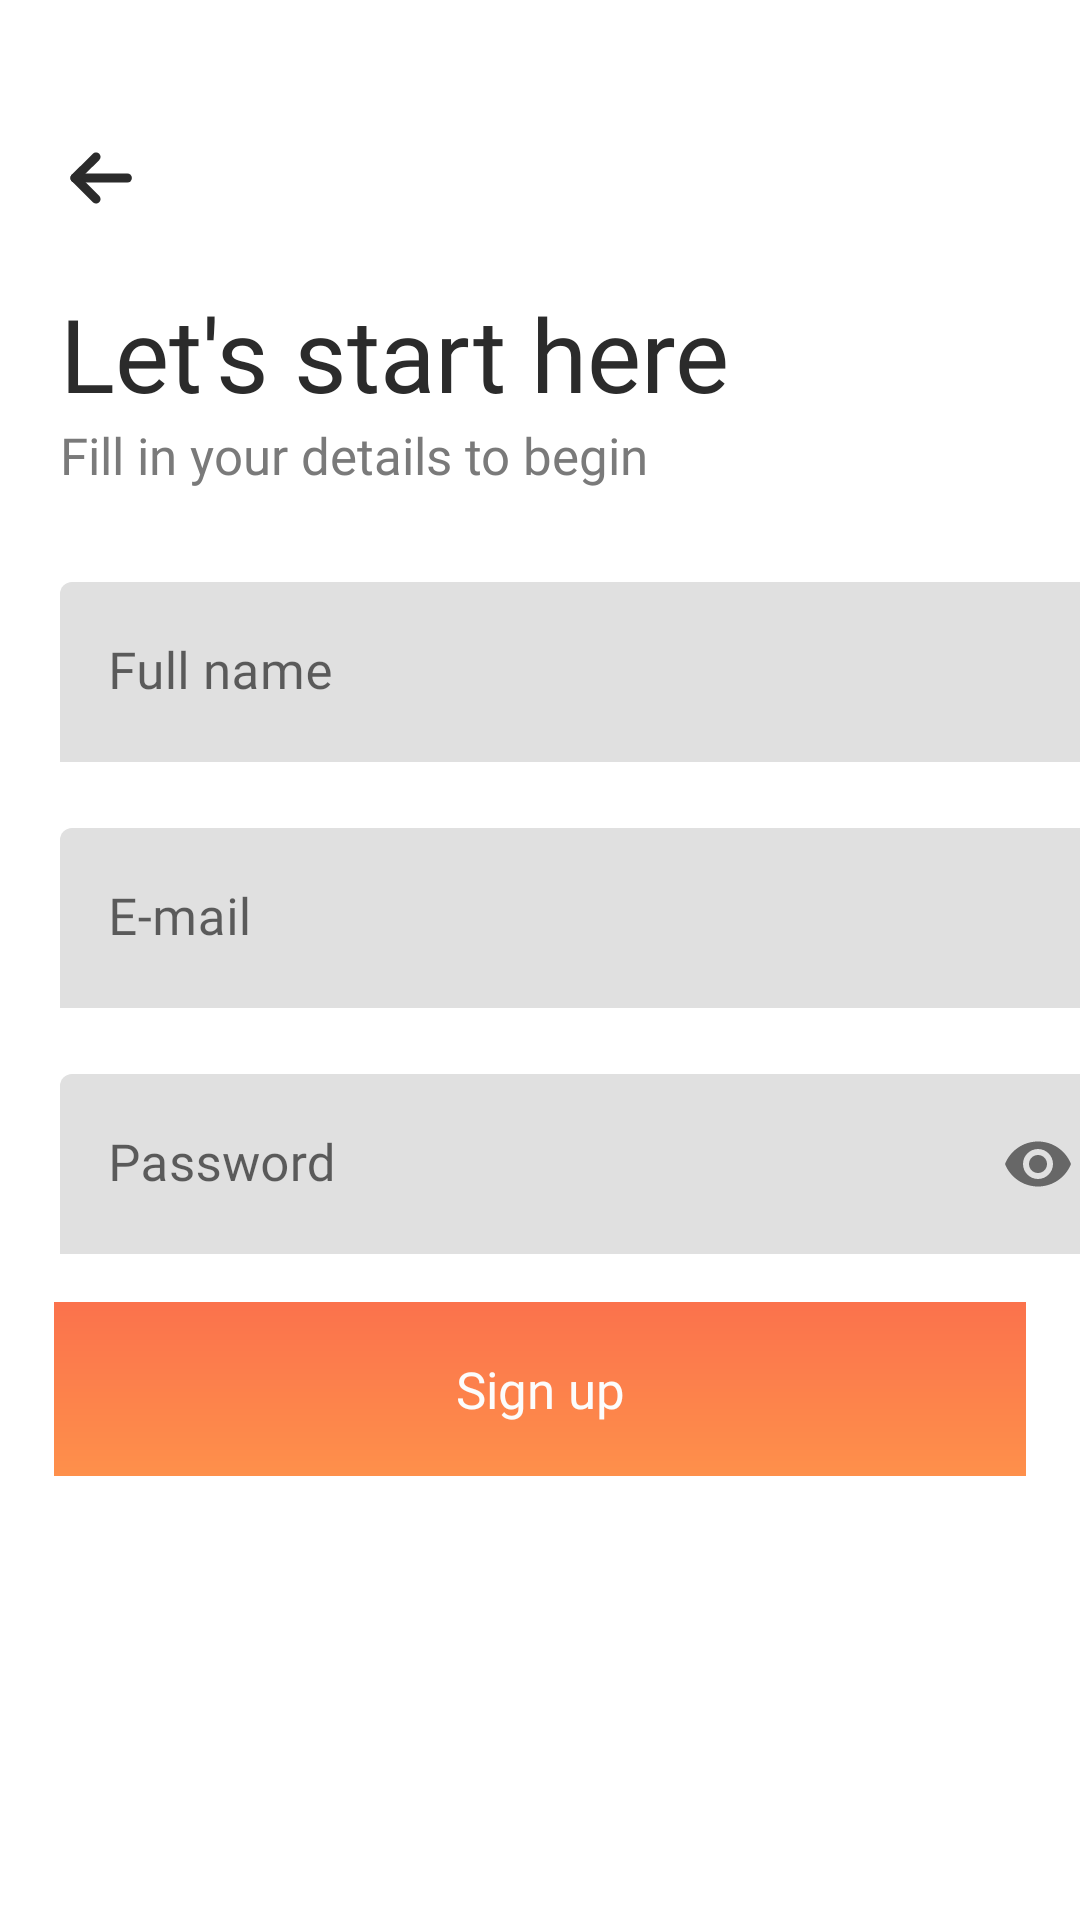

Locate icon controls on the screen. Image size 1080×1920, boxes as (x1, y1, x2, y2).
return: (70, 152, 132, 204)
